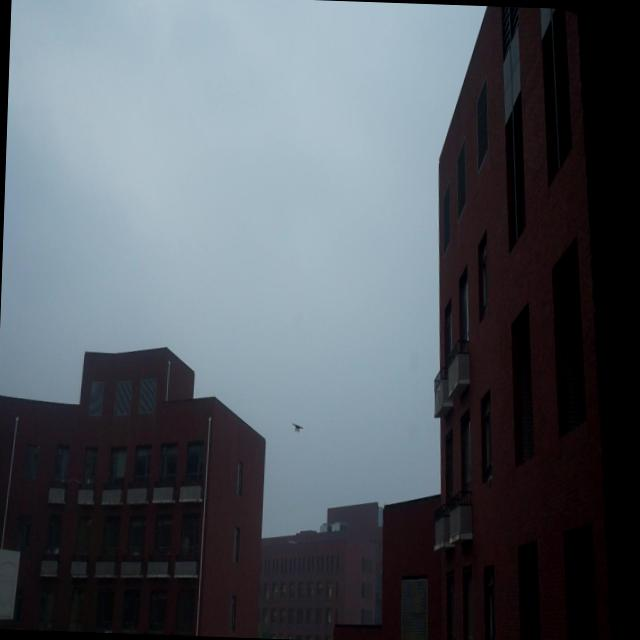drone: (290, 419, 304, 436)
